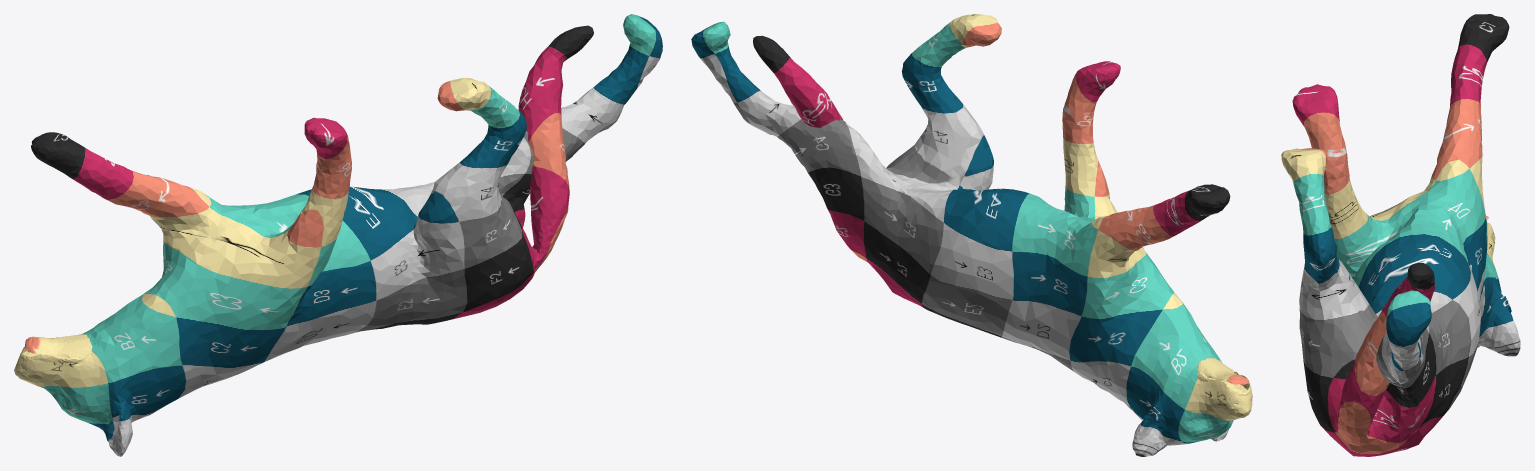
File: horse_01-dog_08.obj
The picture shows the model from 3 angles, left to right: view 1: azimuth 30°, elevation 25°; view 2: azimuth 150°, elevation 25°; view 3: azimuth 270°, elevation 25°; orthographic projection. The views are drawn at different scales.
Parts seen in each view (by area): view 1: horse_01-dog_08_export; view 2: horse_01-dog_08_export; view 3: horse_01-dog_08_export.
Boxes of the visible parts, left/top/right/bottom form: horse_01-dog_08_export: left=14, top=14, right=662, bottom=456; horse_01-dog_08_export: left=691, top=14, right=1252, bottom=456; horse_01-dog_08_export: left=1281, top=14, right=1520, bottom=456.
Bounding box in the file's own units: 1.17 × 0.611 × 0.3694.
